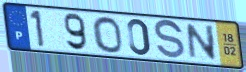0: (126, 18, 152, 57)
1: (29, 9, 47, 49)
9: (63, 12, 89, 52)
N: (184, 23, 218, 62)
O: (90, 15, 125, 55)
S: (153, 18, 186, 62)
